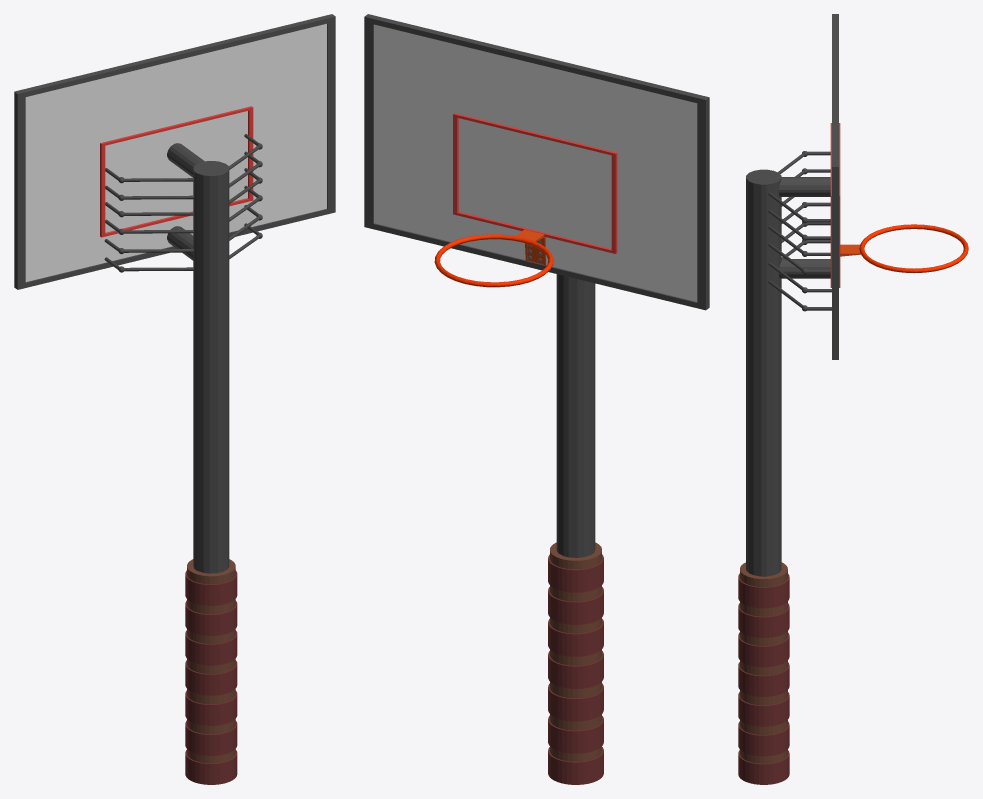
File: uploads_files_2744170_Basketball+Hoop.fbx
The picture shows the model from 3 angles, left to right: view 1: azimuth 30°, elevation 25°; view 2: azimuth 150°, elevation 25°; view 3: azimuth 270°, elevation 25°; orthographic projection. The views are drawn at different scales.
Visible parts, largest first — view 1: Cube.005, Cube.003, Cylinder.001, Cube.006, Cube.004, Cylinder.002, Cube.001; view 2: Cube.005, Cube.003, Cube.006, Cylinder.001, Cylinder.002, Cube.001, Circle.001; view 3: Cube.003, Cylinder.001, Cylinder.002, Cube.004, Cube.006, Circle.001, Cube.001.
Part boxes in pixels (x1,y1,x2,y2): Cube.005: (25,23,326,281); Cube.003: (167,143,229,573); Cylinder.001: (185,570,237,784); Cube.006: (14,14,335,289); Cube.004: (104,134,262,272); Cylinder.002: (187,559,235,763); Cube.001: (100,106,253,237); Cube.005: (374,24,697,301); Cube.003: (556,274,595,557); Cube.006: (364,14,709,310); Cylinder.001: (548,554,603,784); Cylinder.002: (550,542,601,761); Cube.001: (453,113,617,253); Circle.001: (434,234,553,287); Cube.003: (746,169,830,576); Cylinder.001: (738,573,789,784); Cylinder.002: (740,562,787,763); Cube.004: (768,151,831,311); Cube.006: (832,14,838,359); Circle.001: (859,224,968,272); Cube.001: (830,123,840,287).
Bounding box in the file's own units: 728 × 1516 × 464.
